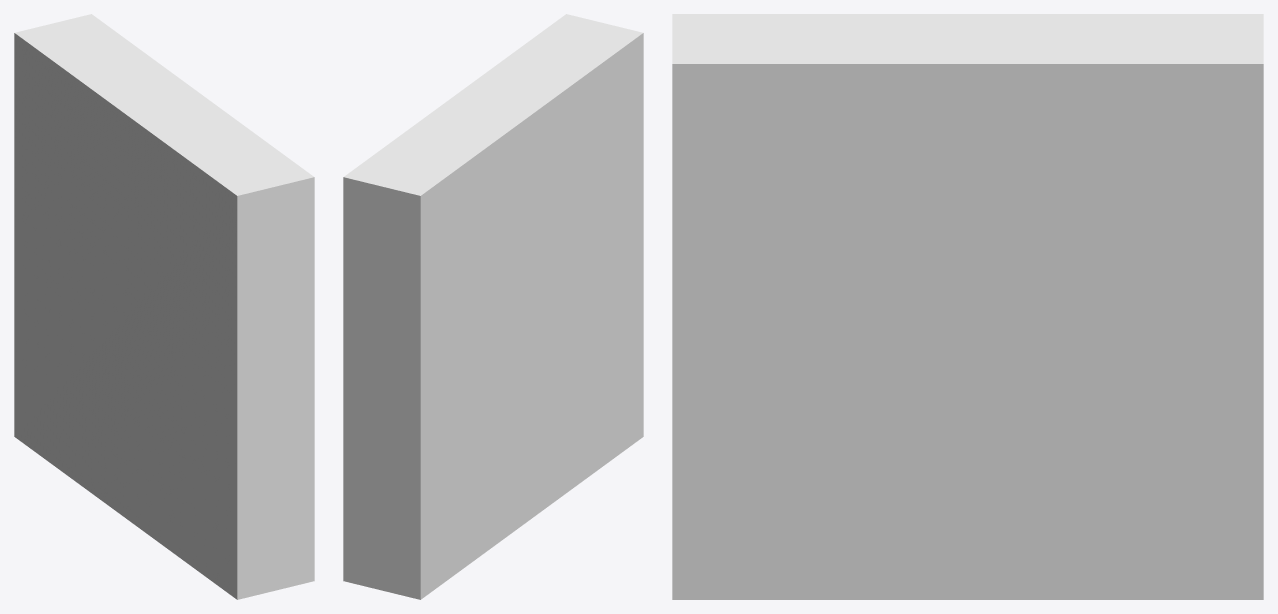
Rendered from BaoPian_FG_TB_FangKuai_1X1_on.FBX.
3 views of the same model, side by side, from view 1: azimuth 30°, elevation 25°; view 2: azimuth 150°, elevation 25°; view 3: azimuth 270°, elevation 25° (orthographic). The views are drawn at different scales.
Visible parts, largest first — view 1: Box002; view 2: Box002; view 3: Box002.
Part boxes in pixels (left/top/right/bottom): Box002: left=14, top=14, right=314, bottom=599; Box002: left=343, top=14, right=643, bottom=599; Box002: left=672, top=14, right=1263, bottom=599.
Size of the model in its own units: 0.2 by 1 by 1.
